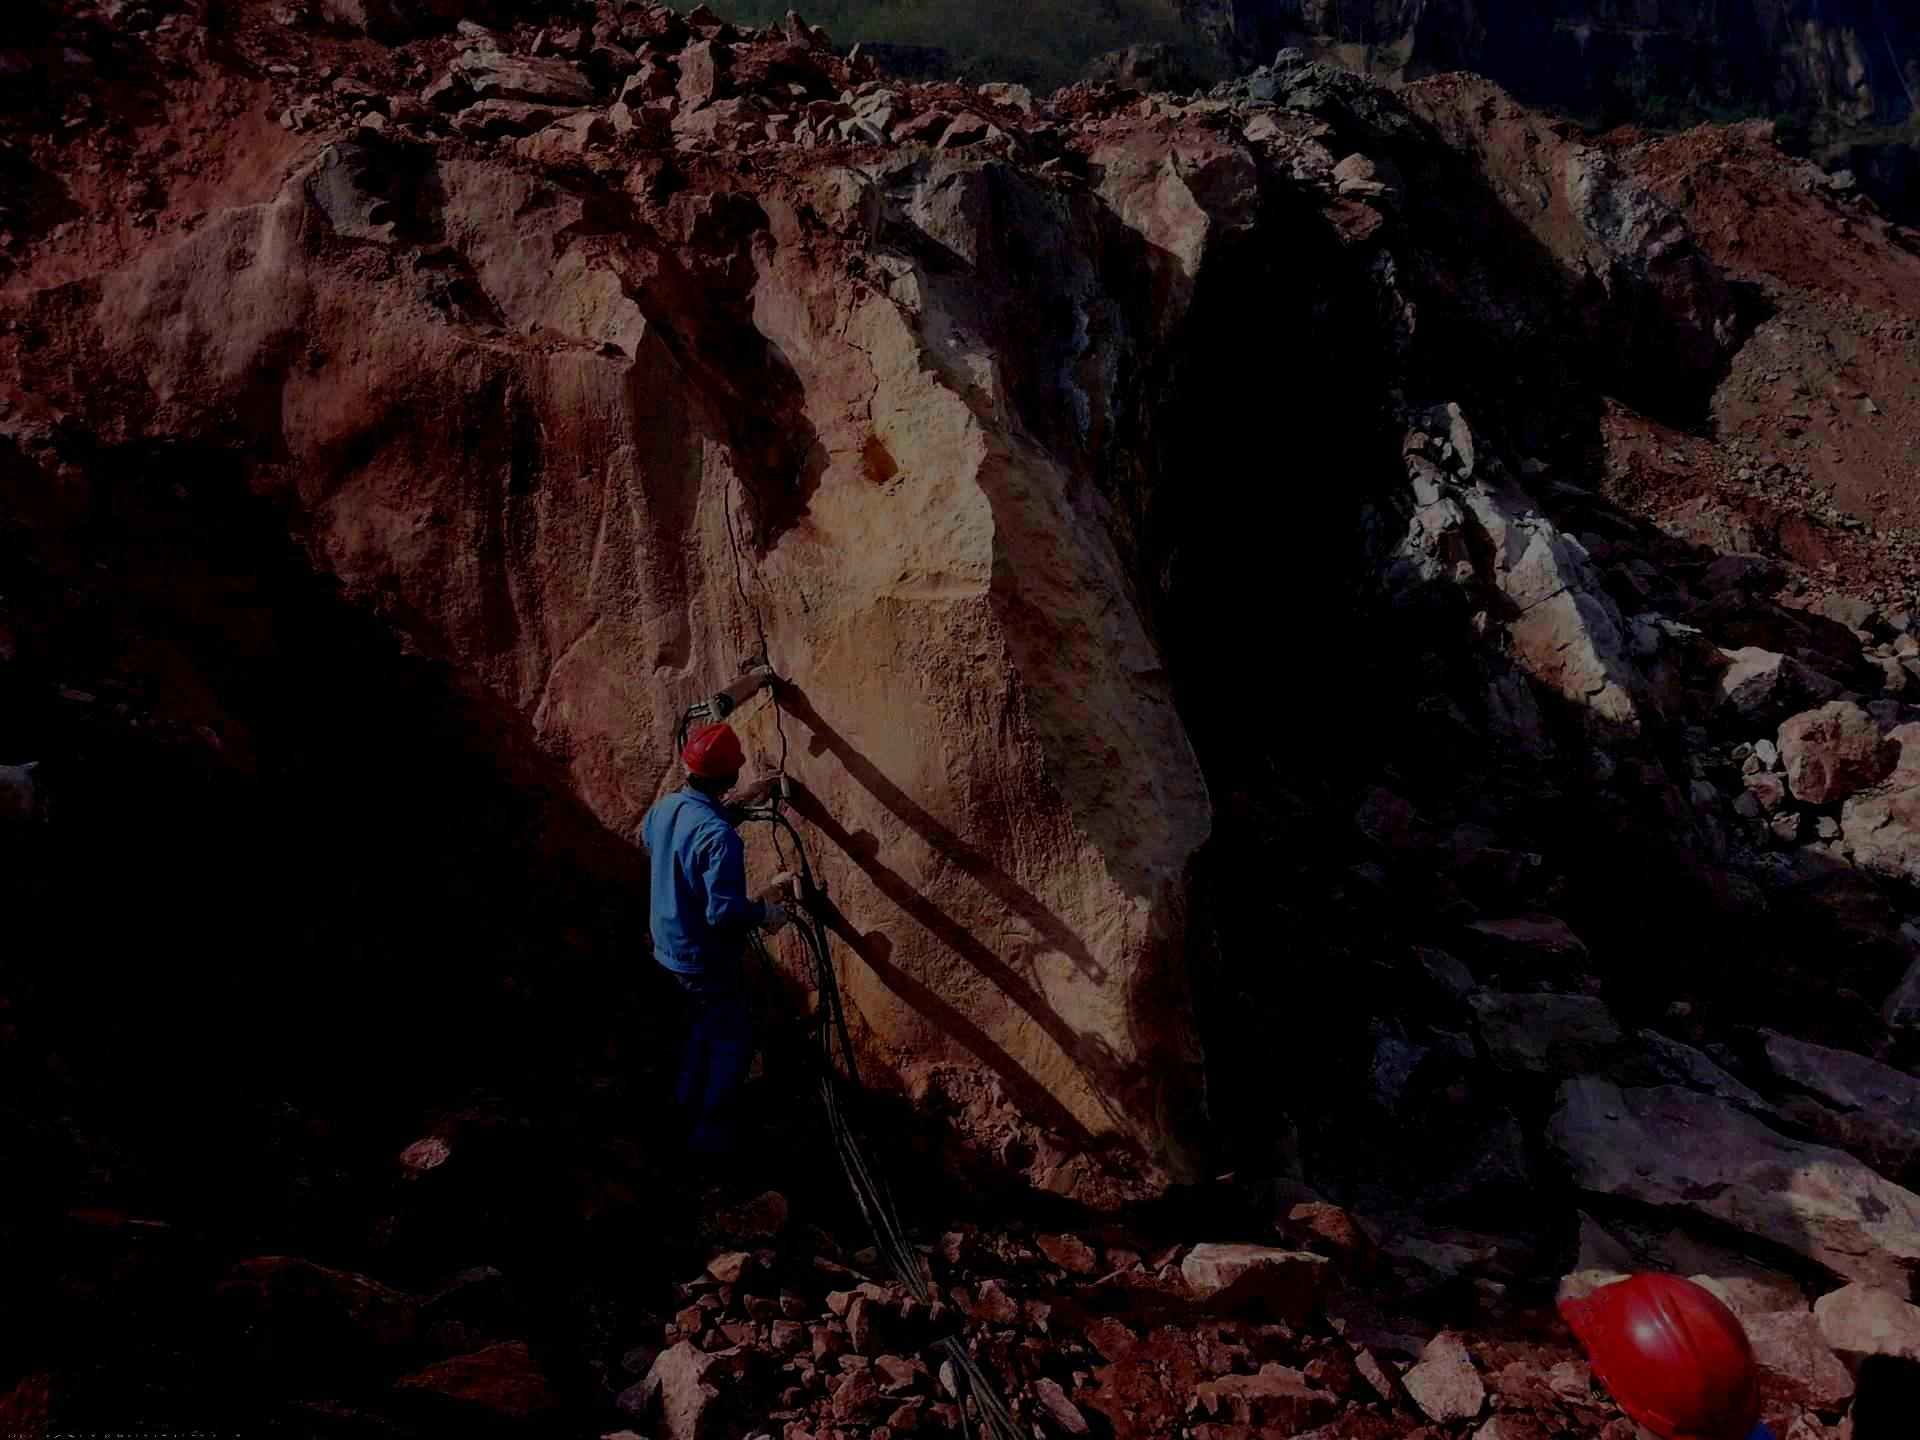helmet: (1557, 1268, 1761, 1440), (680, 718, 747, 797)
